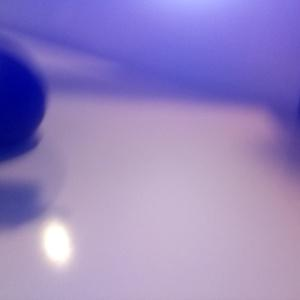dead_ball: (1, 36, 46, 151), (272, 71, 300, 152)
